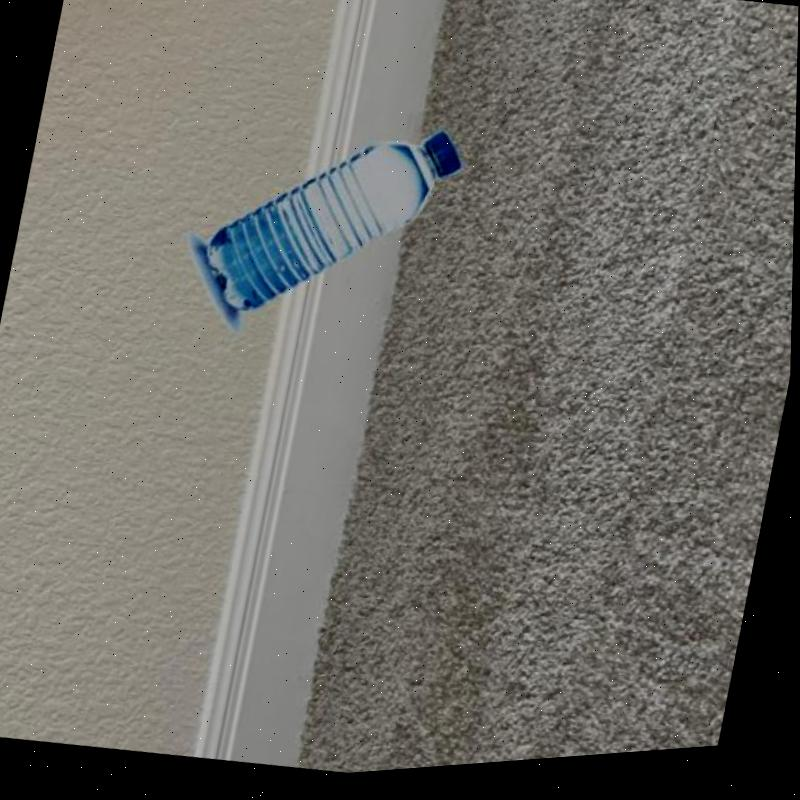botella: (198, 101, 469, 352)
